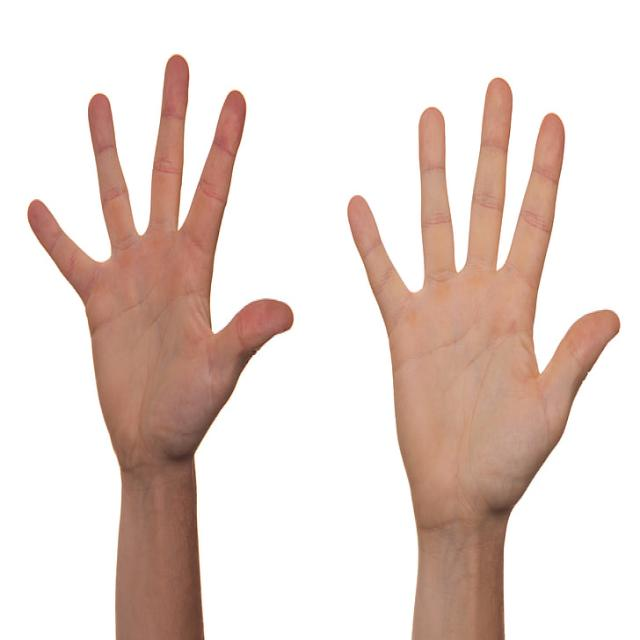hand palm open: (348, 76, 619, 514), (25, 45, 295, 460)
